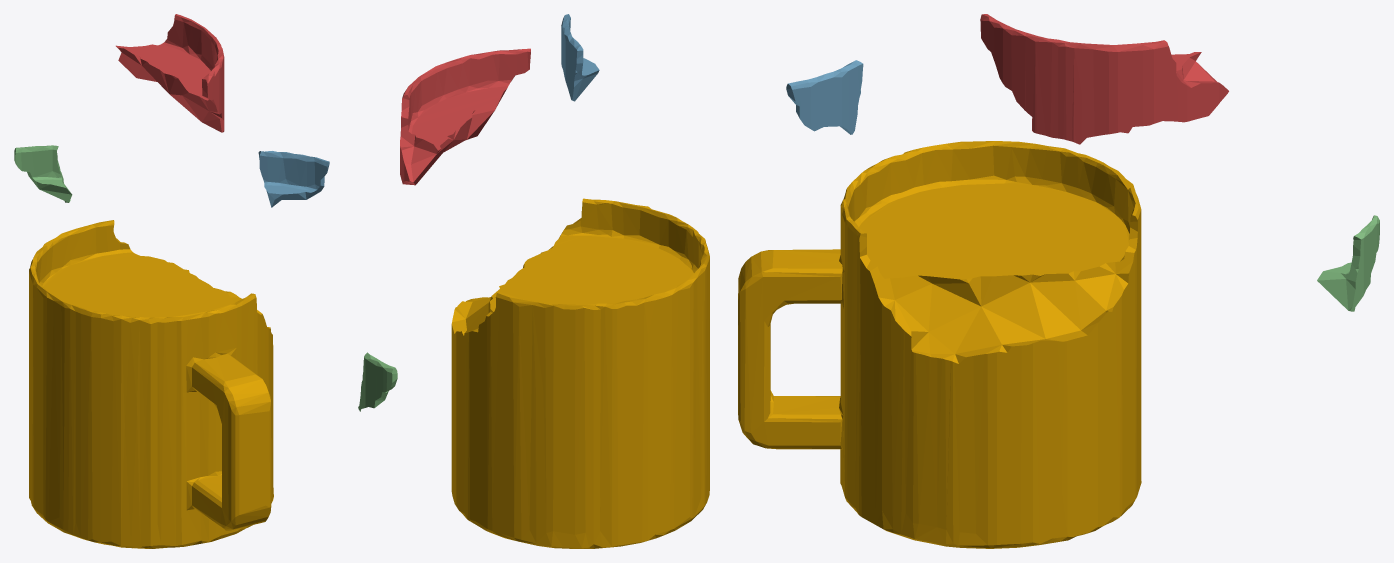
Rendered from fractured_48_4pcs_transformed.glb.
3 renders of one model, left to right at view 1: azimuth 30°, elevation 25°; view 2: azimuth 150°, elevation 25°; view 3: azimuth 270°, elevation 25°, orthographic. The views are drawn at different scales.
Visible parts, largest first — view 1: piece_0.obj, piece_1.obj, piece_2.obj, piece_3.obj; view 2: piece_0.obj, piece_1.obj, piece_2.obj, piece_3.obj; view 3: piece_0.obj, piece_1.obj, piece_2.obj, piece_3.obj.
Part boxes in pixels (left/top/right/bottom): piece_0.obj: left=29, top=220, right=273, bottom=548; piece_1.obj: left=116, top=14, right=224, bottom=132; piece_2.obj: left=258, top=151, right=329, bottom=207; piece_3.obj: left=14, top=145, right=72, bottom=202; piece_0.obj: left=451, top=198, right=709, bottom=548; piece_1.obj: left=400, top=48, right=530, bottom=185; piece_2.obj: left=561, top=14, right=599, bottom=101; piece_3.obj: left=358, top=352, right=397, bottom=411; piece_0.obj: left=738, top=141, right=1141, bottom=548; piece_1.obj: left=980, top=14, right=1228, bottom=144; piece_2.obj: left=786, top=60, right=863, bottom=134; piece_3.obj: left=1317, top=215, right=1379, bottom=311.
Size of the model in its own units: 0.7449 by 1.38 by 1.59.
